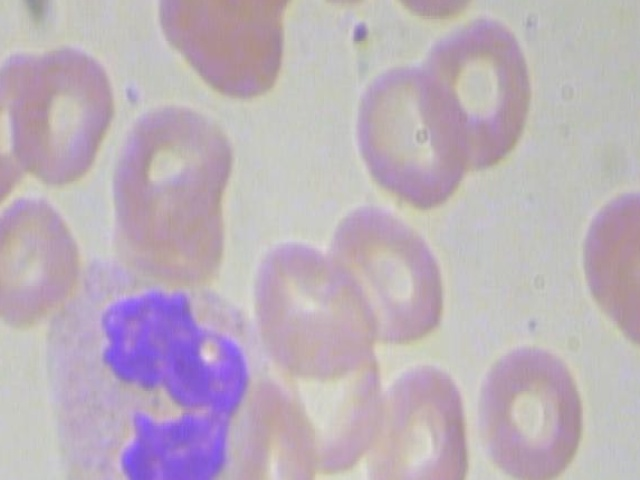RBC: (406, 7, 532, 177), (251, 230, 389, 383), (328, 197, 458, 349), (350, 54, 474, 211), (472, 334, 596, 480), (149, 0, 302, 113), (2, 41, 120, 184), (117, 95, 235, 238), (367, 354, 479, 480), (0, 188, 87, 332), (577, 184, 640, 359), (231, 378, 312, 480), (379, 0, 486, 19), (277, 0, 384, 19)
WBC: (25, 249, 277, 480)
